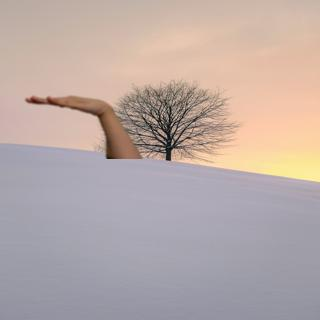WAIT: (22, 89, 115, 122)
